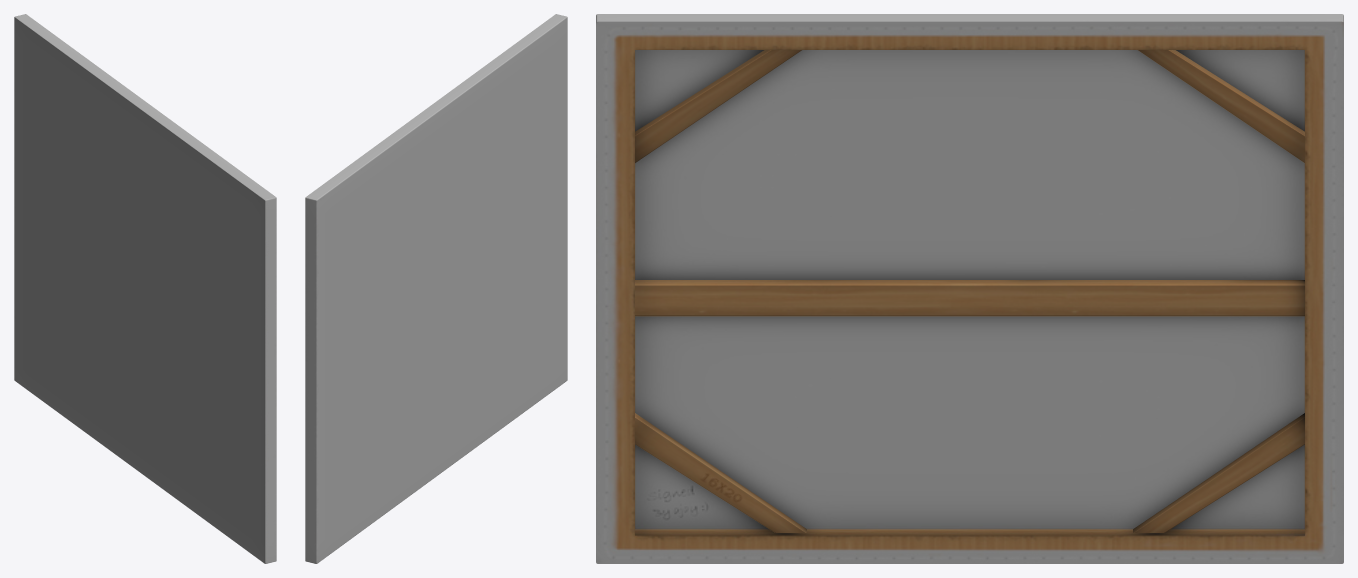
File: game_ready_-_canvas_painting.glb
The picture shows the model from 3 angles, left to right: view 1: azimuth 30°, elevation 25°; view 2: azimuth 150°, elevation 25°; view 3: azimuth 270°, elevation 25°; orthographic projection. The views are drawn at different scales.
Visible parts, largest first — view 1: SM_Painting02; view 2: SM_Painting02; view 3: SM_Painting02.
Part boxes in pixels (x1,y1,x2,y2): SM_Painting02: [14, 14, 276, 563]; SM_Painting02: [305, 14, 567, 563]; SM_Painting02: [596, 14, 1343, 563].
Bounding box in the file's own units: 3.73 × 112 × 139.
1 material, 1 textured.
